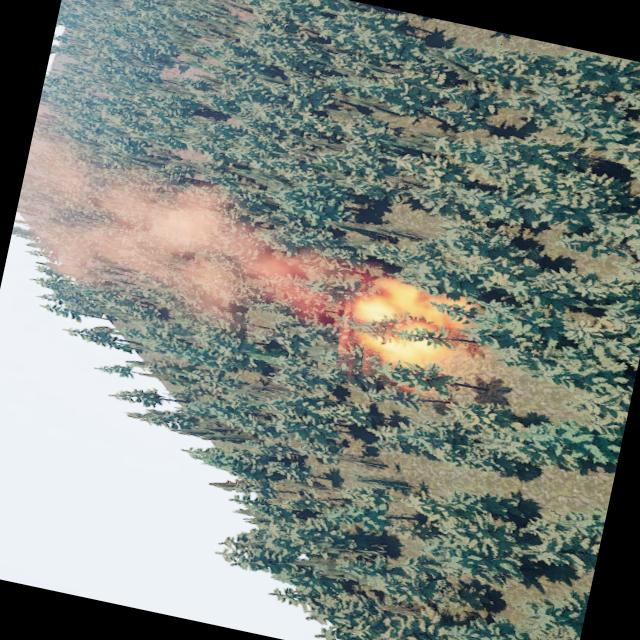fire: (341, 270, 463, 376)
smoke: (2, 124, 350, 342)
